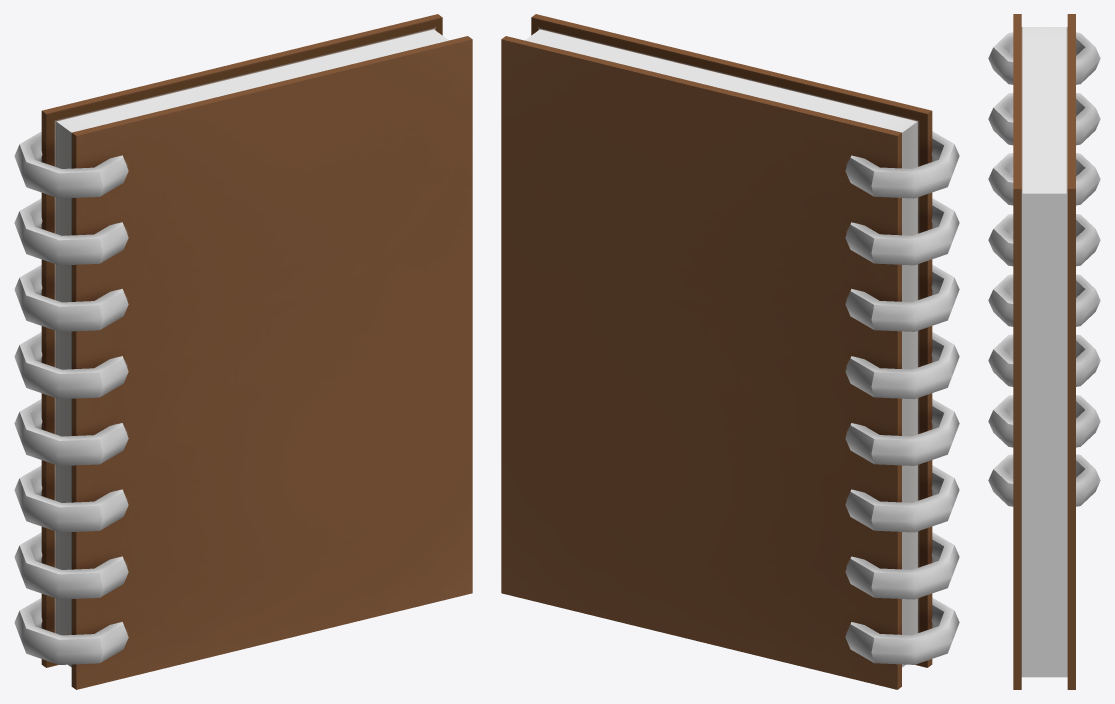
Rendered from note.FBX.
The picture shows the model from 3 angles, left to right: view 1: azimuth 30°, elevation 25°; view 2: azimuth 150°, elevation 25°; view 3: azimuth 270°, elevation 25°; orthographic projection. The views are drawn at different scales.
Parts seen in each view (by area): view 1: note; view 2: note; view 3: note.
Boxes of the visible parts, box(x1,y1,x2,y2) form: note: box(14, 14, 472, 689); note: box(501, 14, 959, 689); note: box(988, 14, 1100, 689).
Size of the model in its own units: 32.49 by 39.67 by 8.07.
